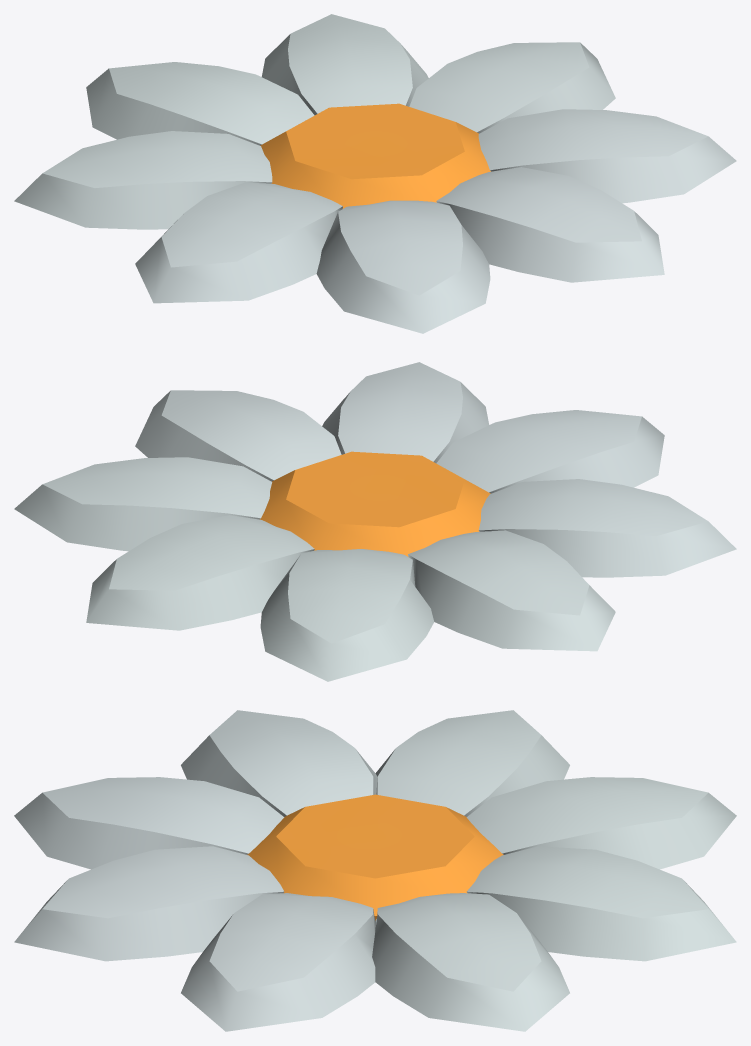
The model's file is Flower_1_1.fbx.
The picture shows the model from 3 angles, top to bottom: view 1: azimuth 30°, elevation 25°; view 2: azimuth 150°, elevation 25°; view 3: azimuth 270°, elevation 25°; orthographic projection. The views are drawn at different scales.
Parts seen in each view (by area): view 1: Flower_1_1; view 2: Flower_1_1; view 3: Flower_1_1.
Boxes of the visible parts, x1=… form: Flower_1_1: x1=14, y1=14, x2=736, y2=333; Flower_1_1: x1=14, y1=362, x2=736, y2=681; Flower_1_1: x1=14, y1=710, x2=736, y2=1031.
Bounding box in the file's own units: 35.82 × 2.58 × 35.82.
